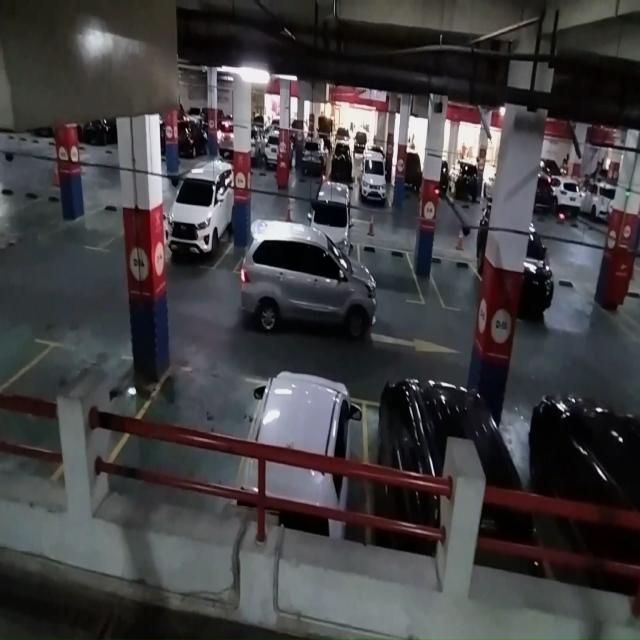empty: (134, 362, 258, 509), (355, 241, 424, 304), (429, 256, 483, 312)
occupied: (362, 394, 519, 556), (243, 371, 367, 545), (165, 169, 234, 270)
